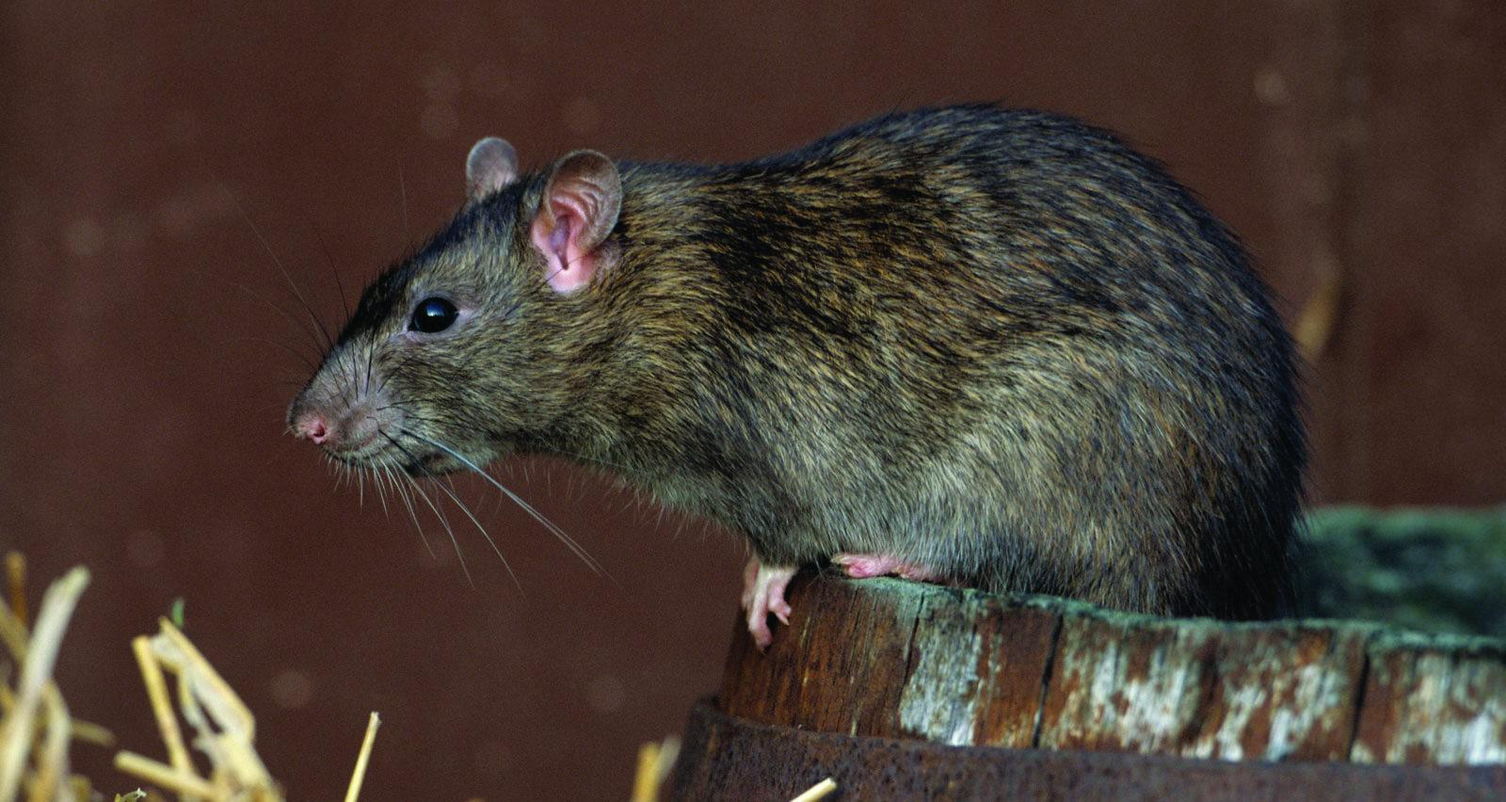rat: (288, 107, 1309, 652)
